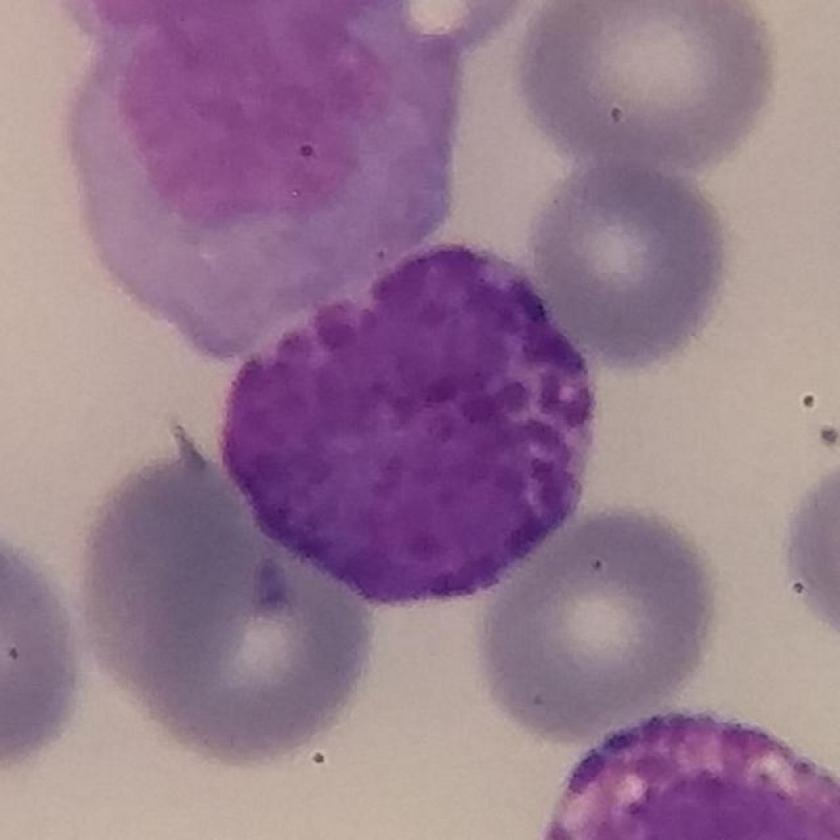basophil: (208, 232, 610, 602)
